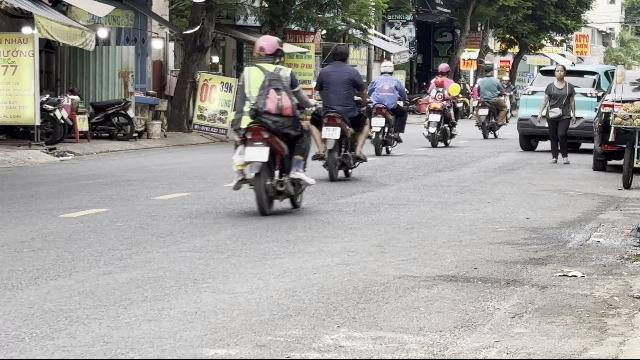helmet: (252, 34, 284, 64)
licenseplate: (243, 146, 269, 162), (321, 127, 341, 140)
motorcyclist: (227, 33, 313, 216), (308, 44, 368, 180)
nohelmet: (328, 44, 348, 63)
